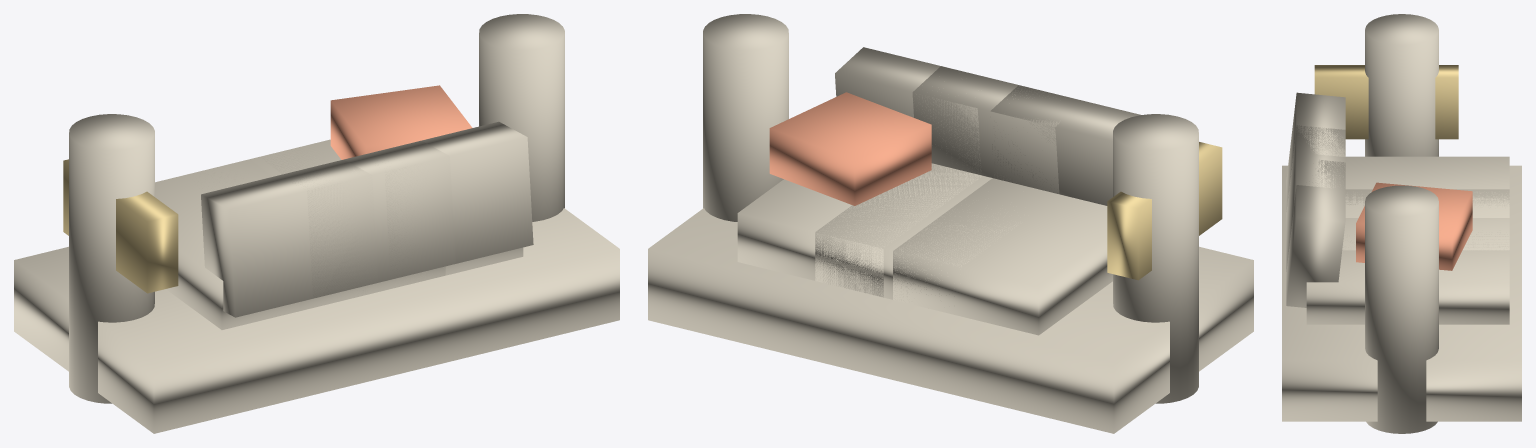
The model's file is sofa_two.glb.
3 renders of one model, left to right at view 1: azimuth 30°, elevation 25°; view 2: azimuth 150°, elevation 25°; view 3: azimuth 270°, elevation 25°, orthographic. The views are drawn at different scales.
Parts seen in each view (by area): view 1: sofa_base, back_0, back_1, arm_-1, arm_1, back_2, seat_0, throw, blanket, seat_1, seat_2; view 2: sofa_base, seat_0, arm_-1, arm_1, throw, seat_2, back_1, seat_1, back_0, blanket, back_2; view 3: sofa_base, arm_1, arm_-1, seat_2, seat_0, back_2, blanket, back_1, throw, back_0, seat_1.
Part boxes in pixels (bbox=[...]): sofa_base: bbox=[14, 208, 619, 433]; back_0: bbox=[201, 159, 378, 317]; back_1: bbox=[285, 140, 455, 298]; arm_-1: bbox=[69, 114, 154, 403]; arm_1: bbox=[479, 14, 564, 221]; back_2: bbox=[385, 121, 533, 276]; seat_0: bbox=[155, 159, 365, 329]; throw: bbox=[330, 85, 472, 159]; blanket: bbox=[63, 159, 178, 293]; seat_1: bbox=[190, 140, 445, 310]; seat_2: bbox=[261, 139, 523, 291]; sofa_base: bbox=[648, 208, 1253, 433]; seat_0: bbox=[893, 178, 1112, 335]; arm_-1: bbox=[1113, 114, 1198, 403]; arm_1: bbox=[703, 14, 788, 221]; throw: bbox=[769, 92, 931, 205]; seat_2: bbox=[737, 164, 981, 297]; back_1: bbox=[912, 66, 1059, 193]; seat_1: bbox=[815, 163, 1016, 300]; back_0: bbox=[990, 85, 1140, 205]; blanket: bbox=[1107, 142, 1222, 280]; back_2: bbox=[835, 47, 981, 173]; sofa_base: bbox=[1282, 165, 1521, 421]; arm_1: bbox=[1365, 185, 1438, 433]; arm_-1: bbox=[1365, 14, 1438, 156]; seat_2: bbox=[1306, 232, 1509, 324]; seat_0: bbox=[1345, 156, 1509, 217]; back_2: bbox=[1286, 160, 1345, 307]; blanket: bbox=[1314, 65, 1458, 139]; back_1: bbox=[1286, 125, 1345, 271]; throw: bbox=[1356, 182, 1472, 270]; back_0: bbox=[1286, 92, 1345, 211]; seat_1: bbox=[1342, 189, 1509, 250].
Size of the model in its own units: 1.56 by 0.78 by 0.78.
